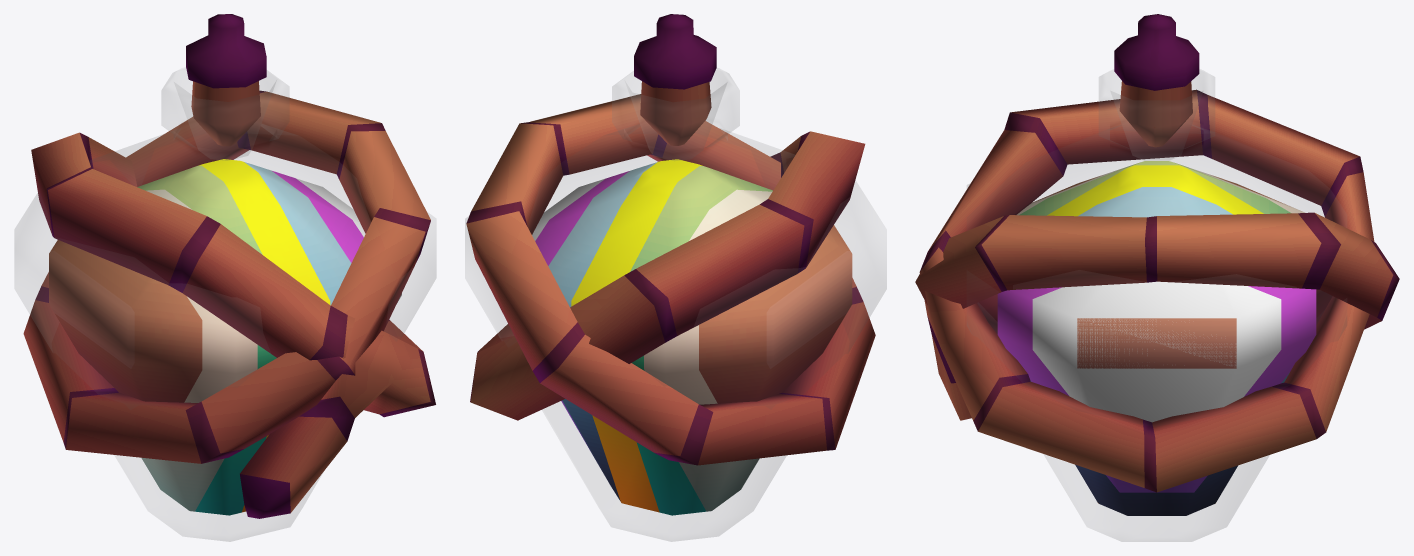
Rendered from Potion5.fbx.
3 renders of one model, left to right at view 1: azimuth 30°, elevation 25°; view 2: azimuth 150°, elevation 25°; view 3: azimuth 270°, elevation 25°, orthographic.
Visible parts, largest first — view 1: Rope, Liquid, Glass4, Extra1; view 2: Rope, Liquid, Glass4, Extra1; view 3: Rope, Liquid, Glass4, Extra1.
Part boxes in pixels (left/top/right/bottom): Rope: left=23, top=90, right=435, bottom=518; Liquid: left=49, top=159, right=401, bottom=515; Glass4: left=15, top=67, right=435, bottom=541; Extra1: left=186, top=14, right=266, bottom=146; Rope: left=466, top=94, right=875, bottom=465; Liquid: left=532, top=159, right=852, bottom=515; Glass4: left=465, top=68, right=886, bottom=541; Extra1: left=634, top=14, right=716, bottom=145; Rope: left=915, top=89, right=1399, bottom=492; Liquid: left=997, top=161, right=1316, bottom=515; Glass4: left=967, top=69, right=1346, bottom=541; Extra1: left=1114, top=14, right=1199, bottom=147.
Bounding box in the file's own units: 1.2 × 1.75 × 1.51.
Materials: 2 (1 with a texture image).
